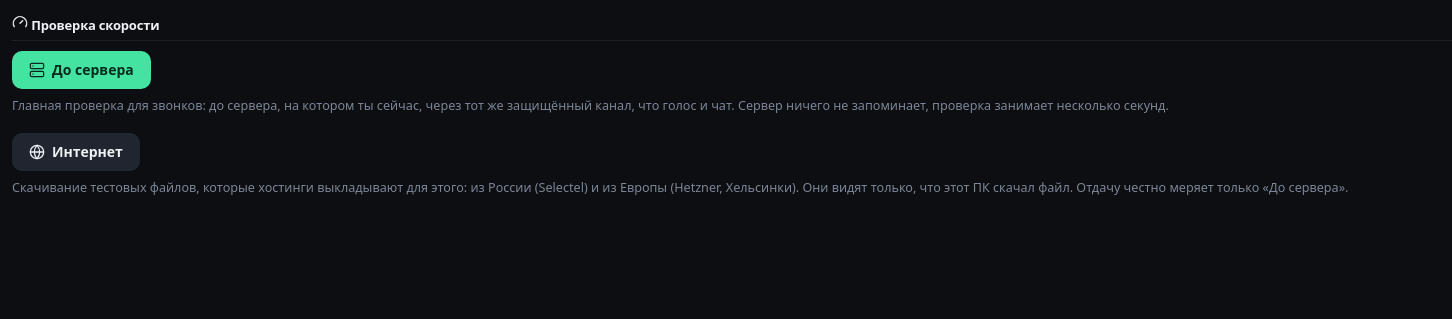
Test: «Сеть»: the speed test › measures the internet from Russia and from Europe only when asked, with no Cloudflare
Step 1. Click the button "Интернет" → click(76, 152), box [12, 133, 140, 171]
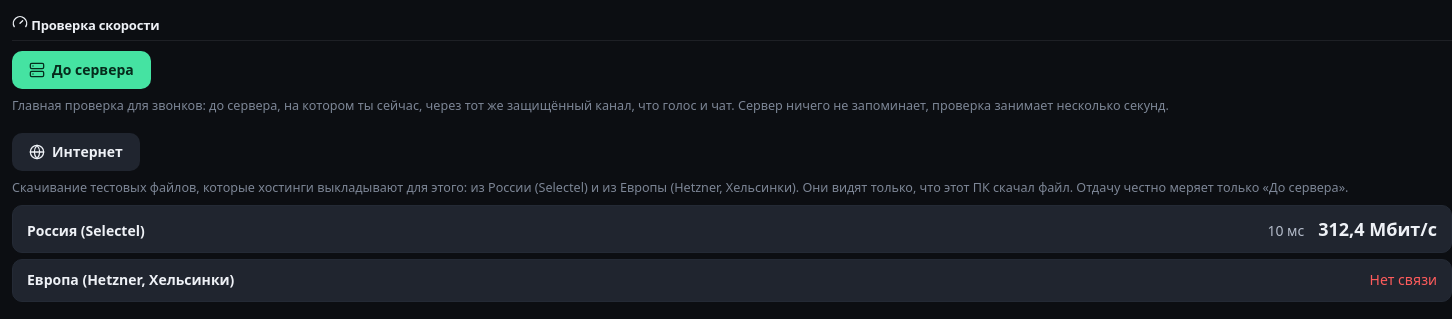
Now the text "Россия (Selectel)" is shown, box [27, 221, 145, 240]
Now the text "312,4 Мбит/с" is shown, box [1318, 216, 1437, 242]
Now the text "Нет связи" is shown, box [1370, 270, 1437, 291]
